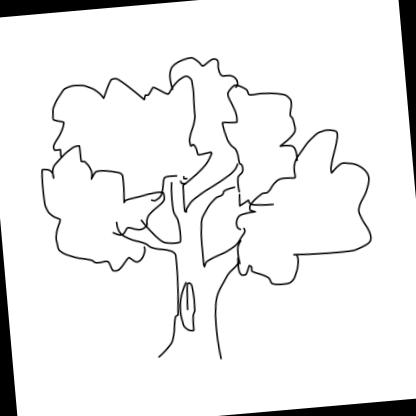branch_cut: (109, 160, 259, 276)
crown_dizzy: (31, 33, 382, 310)
trunk_straight: (164, 277, 228, 355)
